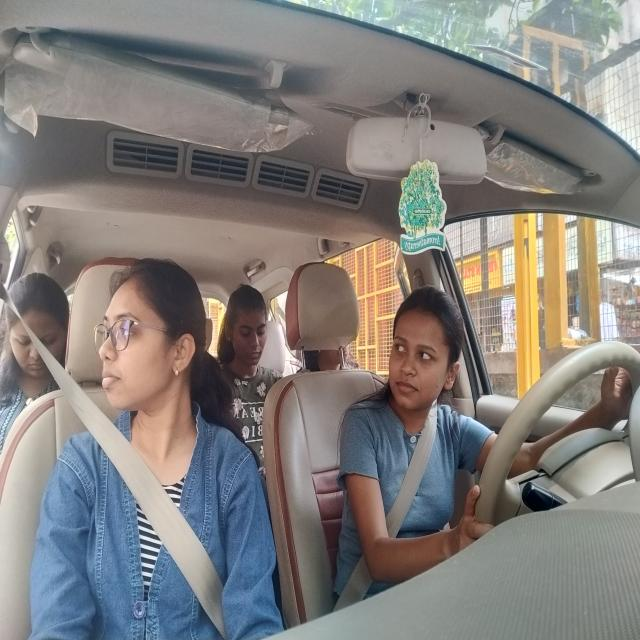LeftRight: (389, 288, 461, 422)
person: (98, 266, 206, 432), (4, 270, 68, 402), (228, 286, 272, 380)
